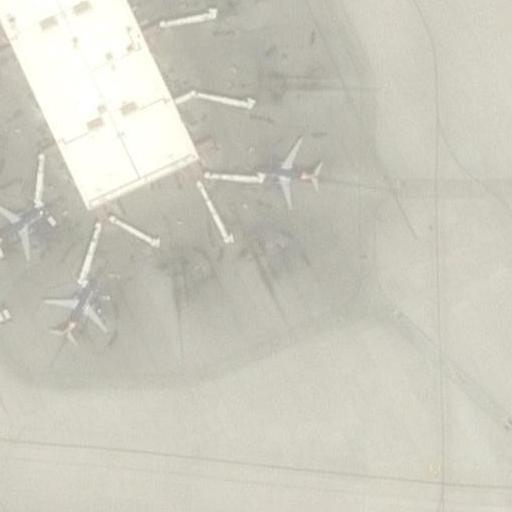Aircraft: (36, 268, 114, 352), (251, 136, 330, 207), (0, 196, 56, 270)
